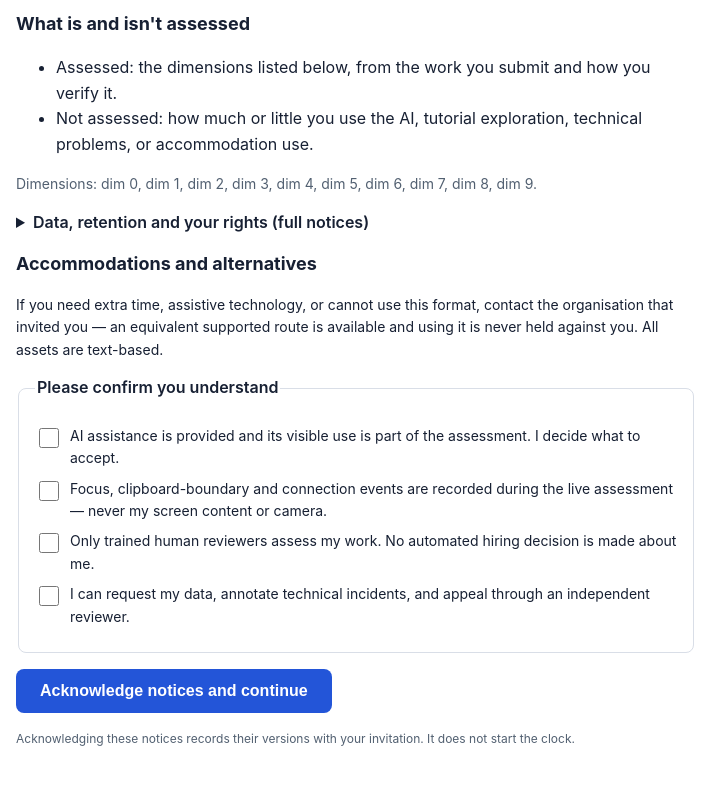
Test: CandidateV2EntryPage (S11/S12) › comprehension gate: continue without confirming shows an error summary linking each unchecked item
(page scrolled)
Click the button "Acknowledge notices and continue" at (174, 691), box left=16, top=669, right=332, bottom=713
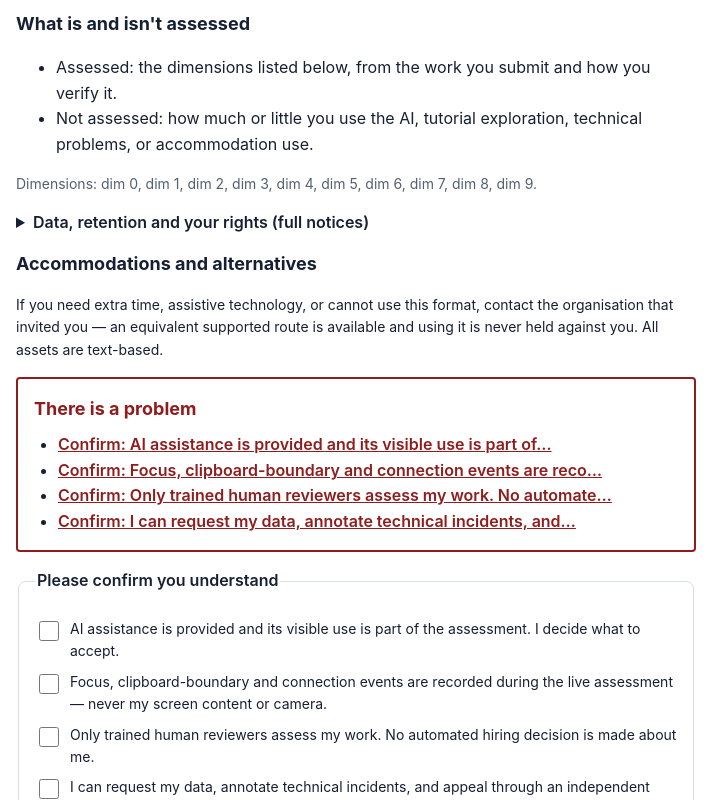
Result: the message shows "There is a problem" at left=34, top=398, right=196, bottom=419
